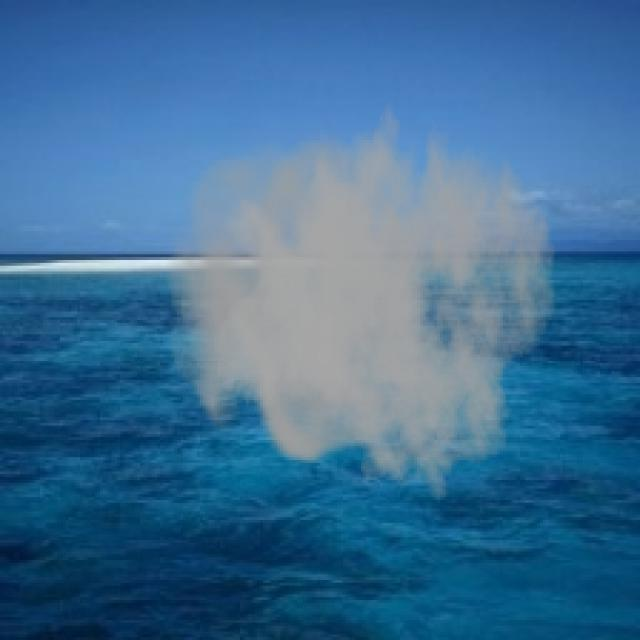Smoke: (165, 83, 558, 500)
